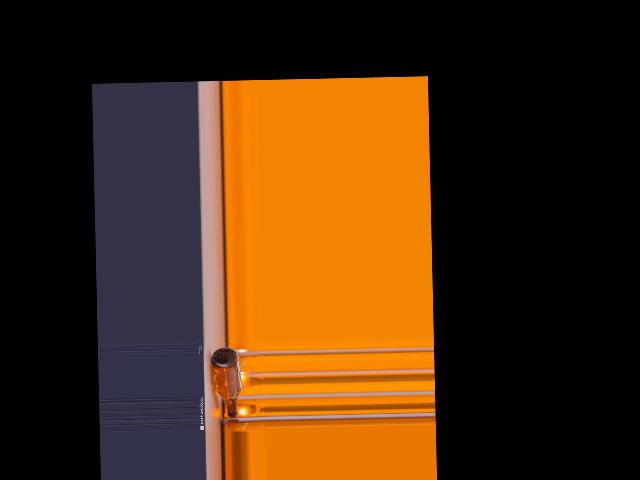beer: (209, 346, 242, 416)
